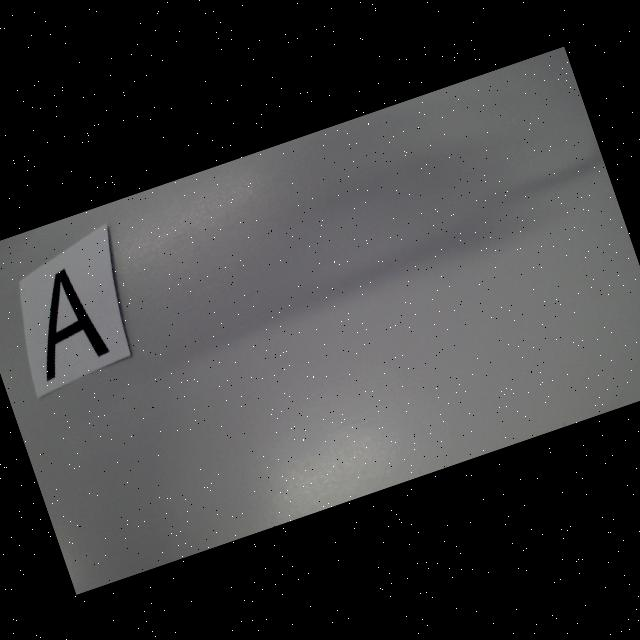FAKE: (13, 263, 112, 381)
